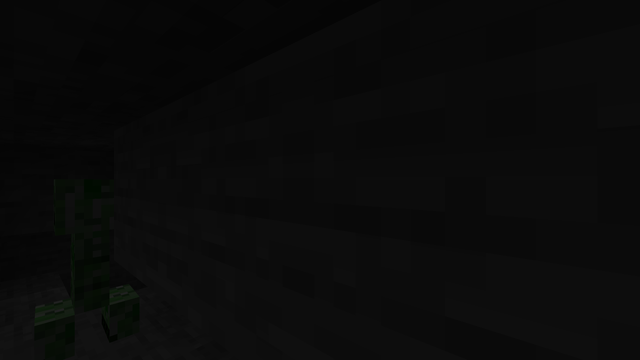creepers: (44, 170, 133, 358)
